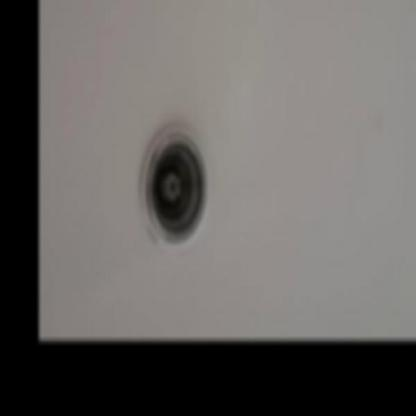light_off: (132, 102, 220, 255)
